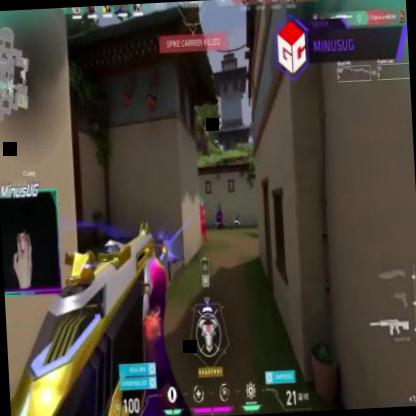enemy: (194, 200, 206, 242)
enemy_head: (196, 200, 204, 211)
